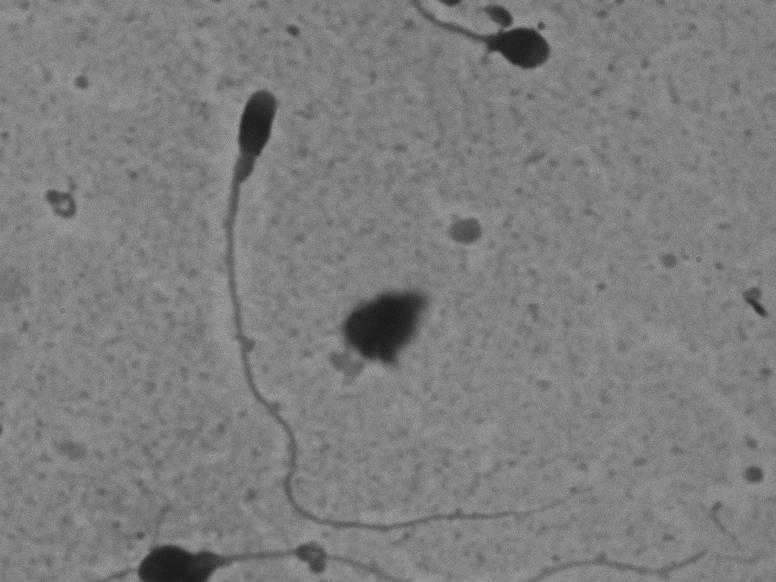Abnormal: (203, 79, 587, 541), (364, 2, 601, 127)
